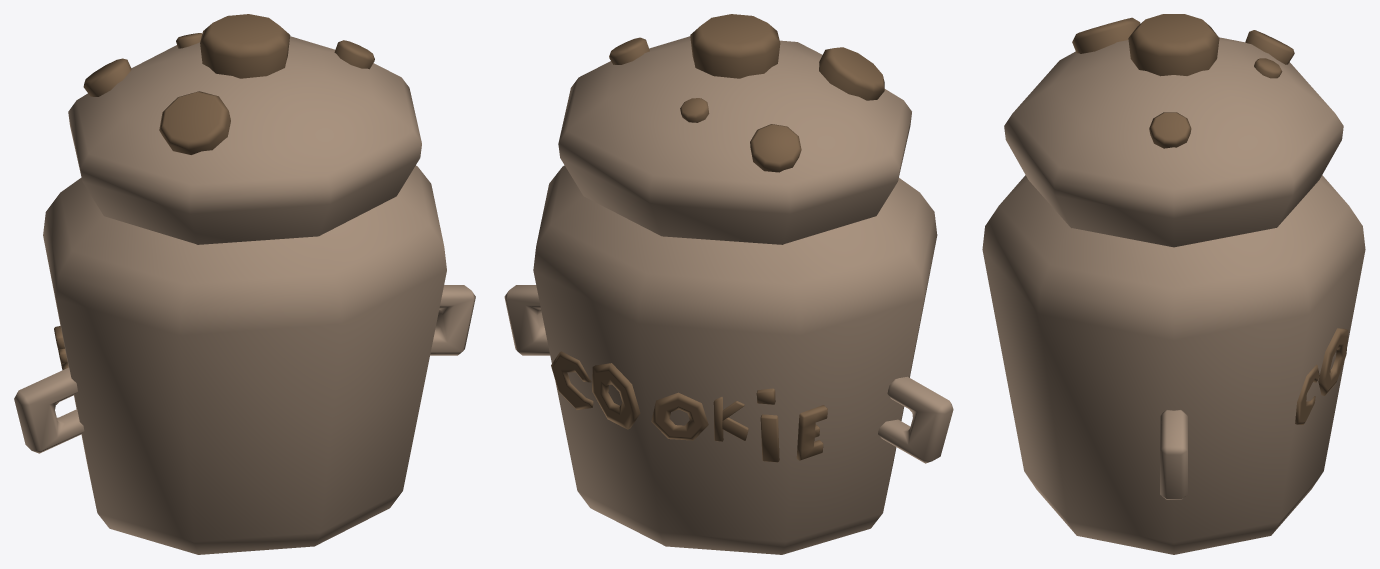
The model's file is props_cookieJar.fbx.
The picture shows the model from 3 angles, left to right: view 1: azimuth 30°, elevation 25°; view 2: azimuth 150°, elevation 25°; view 3: azimuth 270°, elevation 25°; orthographic projection.
Parts seen in each view (by area): view 1: cookieJar; view 2: cookieJar; view 3: cookieJar.
Boxes of the visible parts, x1,y1,x2,y2 form: cookieJar: (14,14,475,554); cookieJar: (504,14,953,554); cookieJar: (982,14,1365,554).
Size of the model in its own units: 0.8158 by 0.6099 by 0.824.
